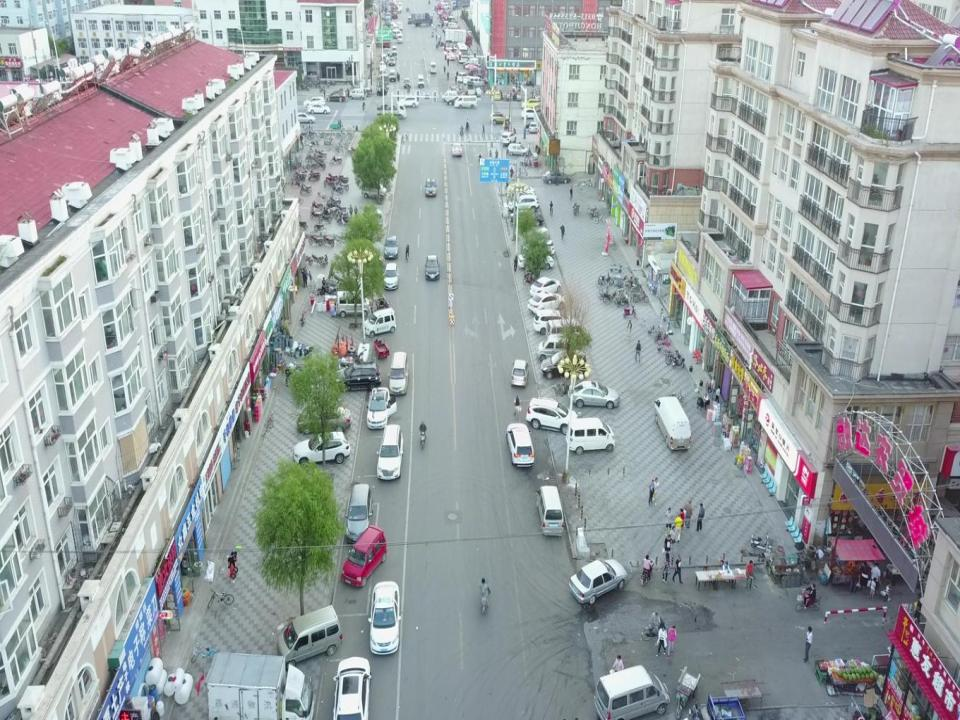car: (342, 525, 386, 587), (570, 557, 627, 603), (369, 581, 403, 655), (335, 658, 370, 720), (526, 396, 578, 437), (294, 429, 350, 466), (297, 405, 351, 434), (568, 380, 620, 410), (376, 425, 404, 479), (333, 360, 381, 390), (537, 486, 564, 538), (505, 422, 534, 466), (366, 387, 396, 429), (541, 350, 586, 378), (534, 310, 576, 333), (528, 292, 565, 315), (518, 251, 554, 271), (529, 276, 562, 296), (522, 237, 554, 256), (510, 210, 544, 227), (508, 195, 539, 212), (511, 359, 529, 387), (384, 262, 400, 290), (424, 253, 440, 280), (543, 170, 570, 185), (508, 184, 535, 198), (383, 235, 399, 258), (506, 143, 529, 157), (500, 132, 516, 144), (426, 178, 436, 196), (451, 141, 462, 155)
truck: (206, 649, 316, 720)
van: (591, 660, 672, 720), (274, 605, 344, 661), (654, 395, 692, 451), (565, 418, 616, 454), (346, 482, 374, 545), (536, 334, 576, 362), (546, 320, 586, 346), (363, 311, 397, 337), (336, 292, 371, 317), (388, 351, 408, 394), (360, 180, 384, 198)
